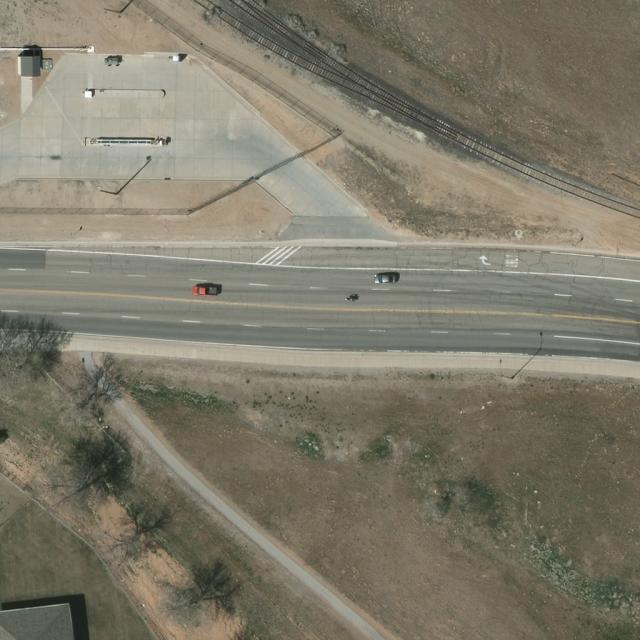vehicle: (192, 286, 218, 296), (374, 274, 398, 284)
